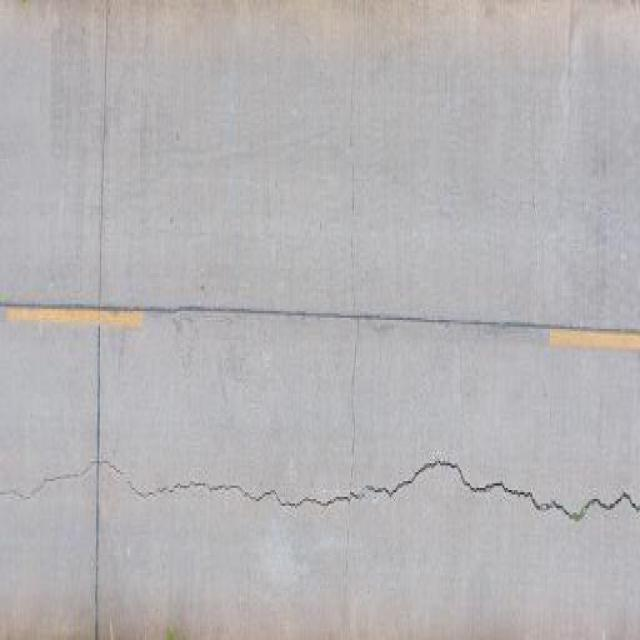minor crack: (290, 488, 366, 506), (582, 491, 634, 513), (524, 492, 564, 515), (557, 502, 592, 522), (258, 489, 285, 502)
moderate crack: (546, 0, 598, 348), (210, 0, 253, 304), (89, 15, 109, 626), (342, 18, 362, 623), (522, 0, 546, 359), (168, 311, 209, 344), (366, 318, 407, 334), (106, 615, 116, 640)
severe crack: (3, 459, 115, 500), (377, 467, 424, 498), (349, 162, 360, 256), (93, 587, 103, 640), (428, 447, 452, 466), (178, 480, 214, 492), (86, 454, 114, 467)
